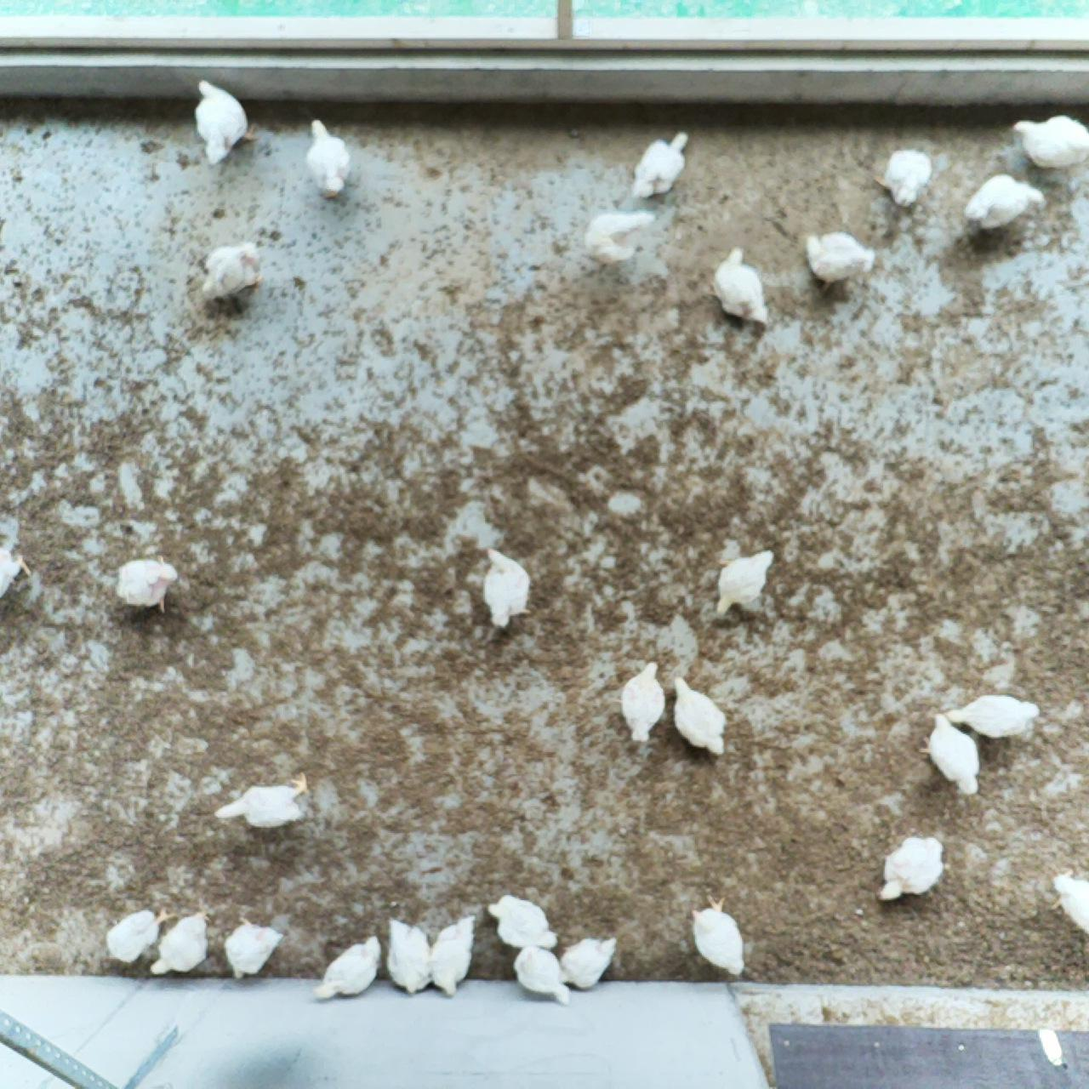chicken: (191, 76, 260, 168), (212, 769, 313, 831), (917, 708, 983, 801), (962, 169, 1047, 237), (706, 243, 773, 329), (687, 890, 747, 980), (874, 833, 947, 906), (666, 674, 729, 758), (801, 228, 879, 295), (312, 931, 383, 1004), (941, 691, 1044, 741), (627, 126, 693, 202), (1009, 111, 1089, 173), (479, 545, 537, 630), (712, 548, 777, 620), (103, 903, 179, 963), (487, 892, 562, 952), (198, 239, 266, 305), (304, 117, 356, 202), (113, 552, 181, 616), (221, 914, 285, 982), (581, 208, 656, 266), (149, 908, 211, 978), (430, 913, 480, 999), (617, 660, 666, 745), (873, 145, 937, 209), (386, 913, 435, 996), (512, 944, 572, 1009), (558, 933, 620, 991), (1046, 865, 1089, 942), (0, 543, 34, 602)
